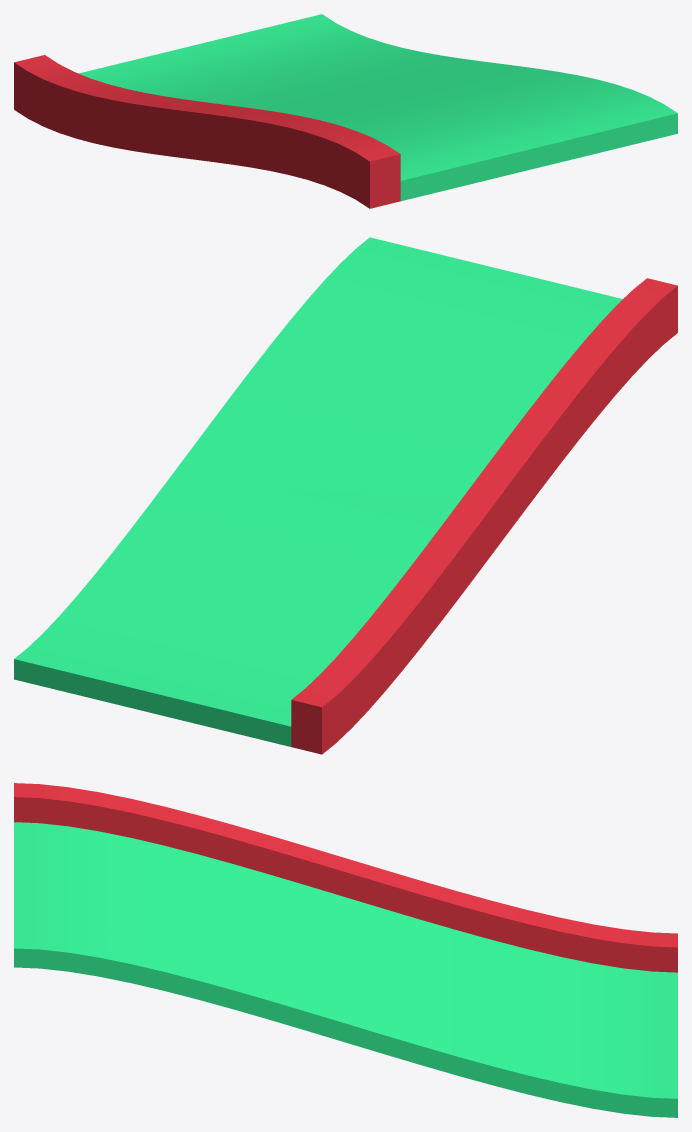
File: rampLargeSide.dae
3 renders of one model, top to bottom at view 1: azimuth 30°, elevation 25°; view 2: azimuth 150°, elevation 25°; view 3: azimuth 270°, elevation 25°, orthographic. The views are drawn at different scales.
Parts seen in each view (by area): view 1: rampLargeSide; view 2: rampLargeSide; view 3: rampLargeSide.
Boxes of the visible parts, x1,y1,x2,y2 form: rampLargeSide: [14, 14, 677, 208]; rampLargeSide: [14, 237, 677, 754]; rampLargeSide: [14, 783, 677, 1117].
Size of the model in its own units: 0.9999 by 0.6467 by 2.
